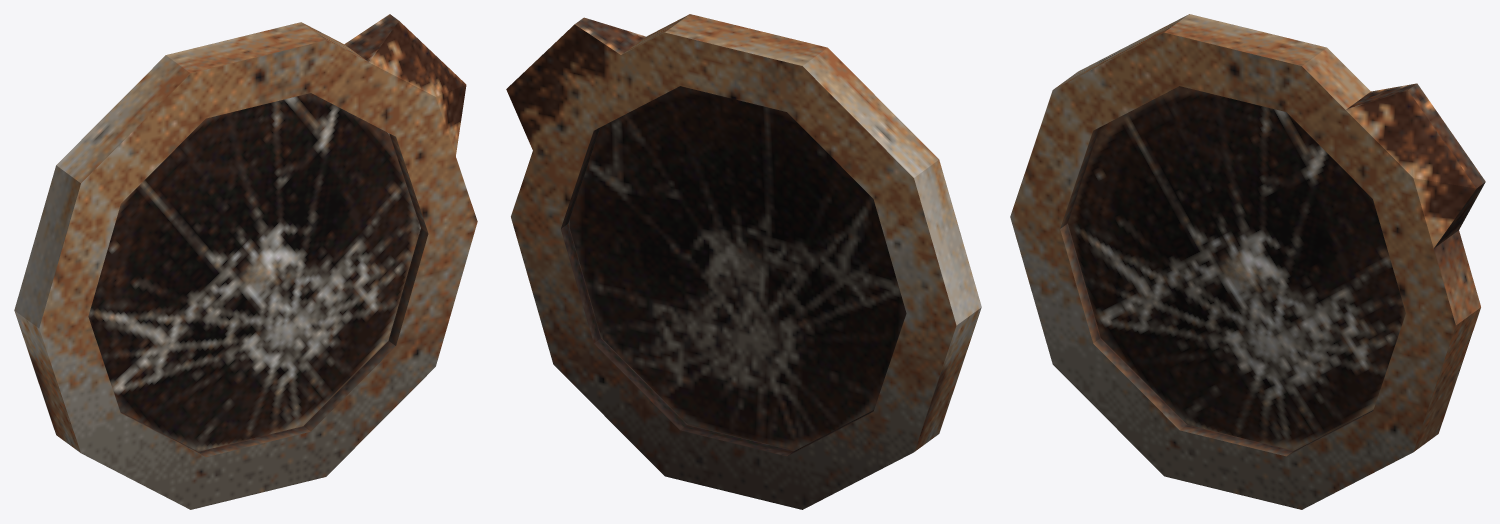
File: washing-machine-door_dirty.dae
3 renders of one model, left to right at view 1: azimuth 30°, elevation 25°; view 2: azimuth 150°, elevation 25°; view 3: azimuth 330°, elevation 25°, orthographic.
Visible parts, largest first — view 1: washing-machine-door_dirty-col; view 2: washing-machine-door_dirty-col; view 3: washing-machine-door_dirty-col.
Part boxes in pixels (bbox=[...]): washing-machine-door_dirty-col: bbox=[14, 14, 477, 509]; washing-machine-door_dirty-col: bbox=[506, 14, 981, 509]; washing-machine-door_dirty-col: bbox=[1010, 14, 1485, 509].
Bounding box in the file's own units: 0.5718 × 0.0556 × 0.5385.
1 material, 1 textured.
